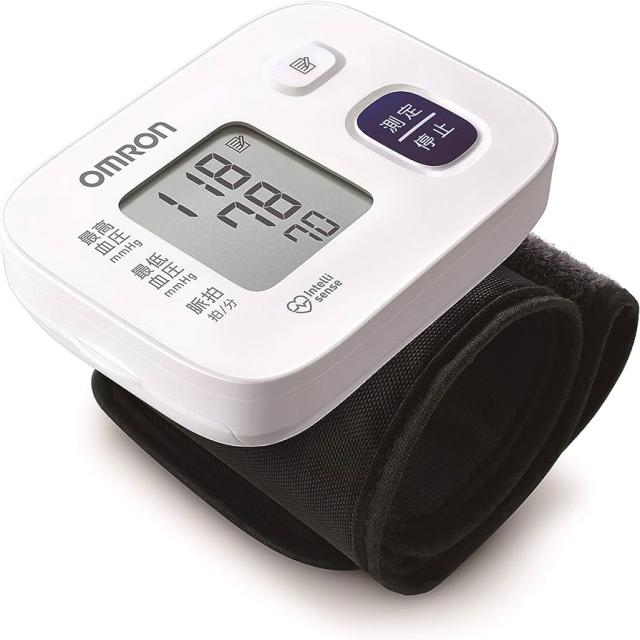dia: (208, 164, 305, 254)
pul: (275, 192, 347, 262)
ssd: (117, 92, 378, 324)
sys: (146, 134, 258, 235)
